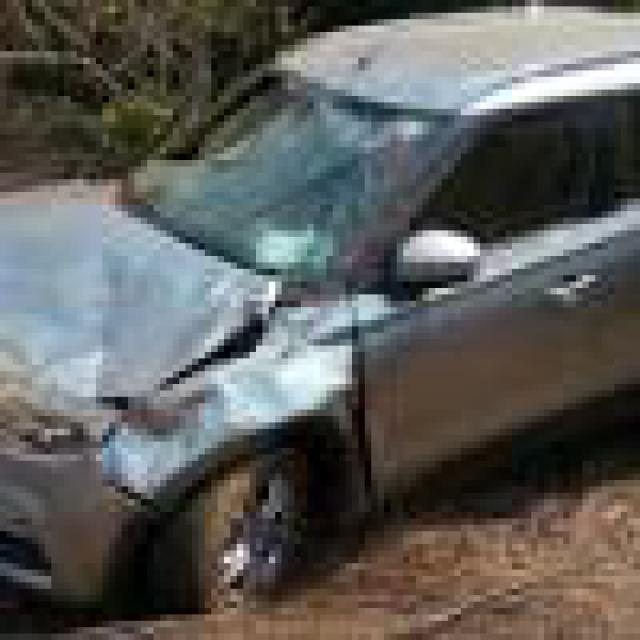Front-Windscreen-Damage: (134, 51, 448, 275)
bonnet-dent: (0, 186, 269, 384)
fender-dent: (135, 301, 359, 538)
